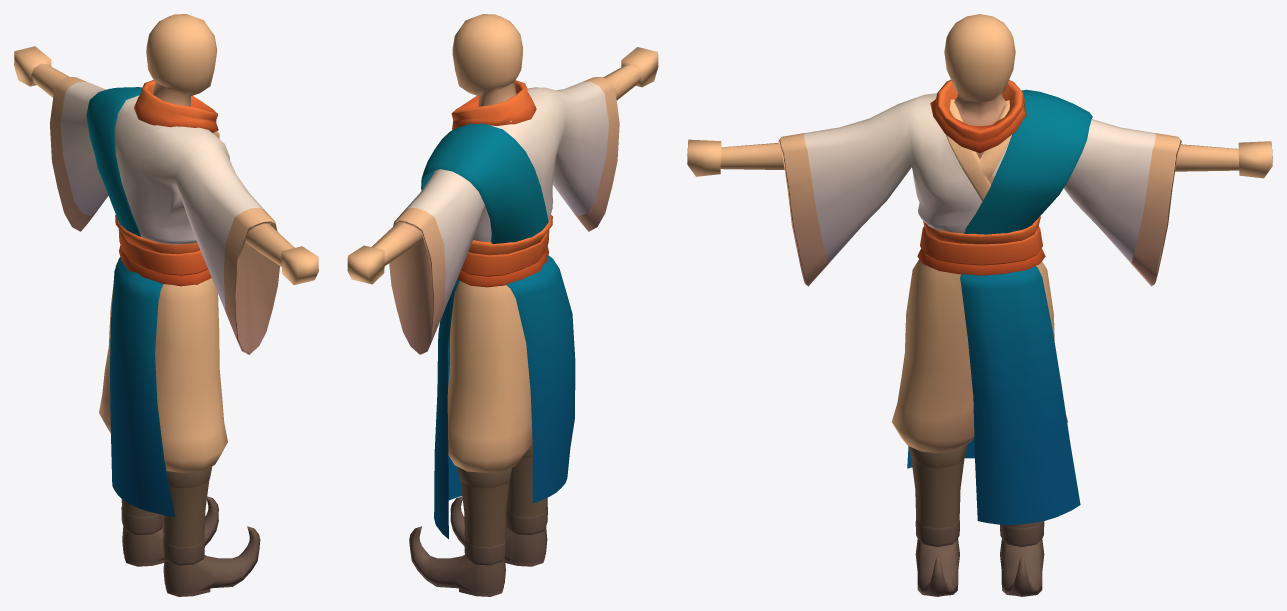
Rendered from Test_MainChar.fbx.
3 views of the same model, side by side, from view 1: azimuth 30°, elevation 25°; view 2: azimuth 150°, elevation 25°; view 3: azimuth 270°, elevation 25° (orthographic).
Visible parts, largest first — view 1: pCylinder9; view 2: pCylinder9; view 3: pCylinder9.
Part boxes in pixels (left/top/right/bottom): pCylinder9: left=14, top=14, right=318, bottom=596; pCylinder9: left=347, top=14, right=658, bottom=596; pCylinder9: left=687, top=14, right=1272, bottom=596.
Bounding box in the file's own units: 40.96 × 171 × 162.
1 material, 1 textured.
